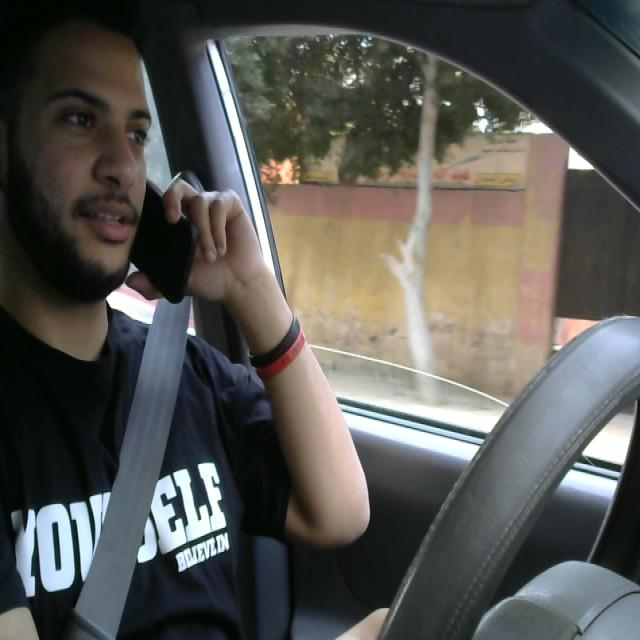mobile use: (101, 166, 192, 308)
